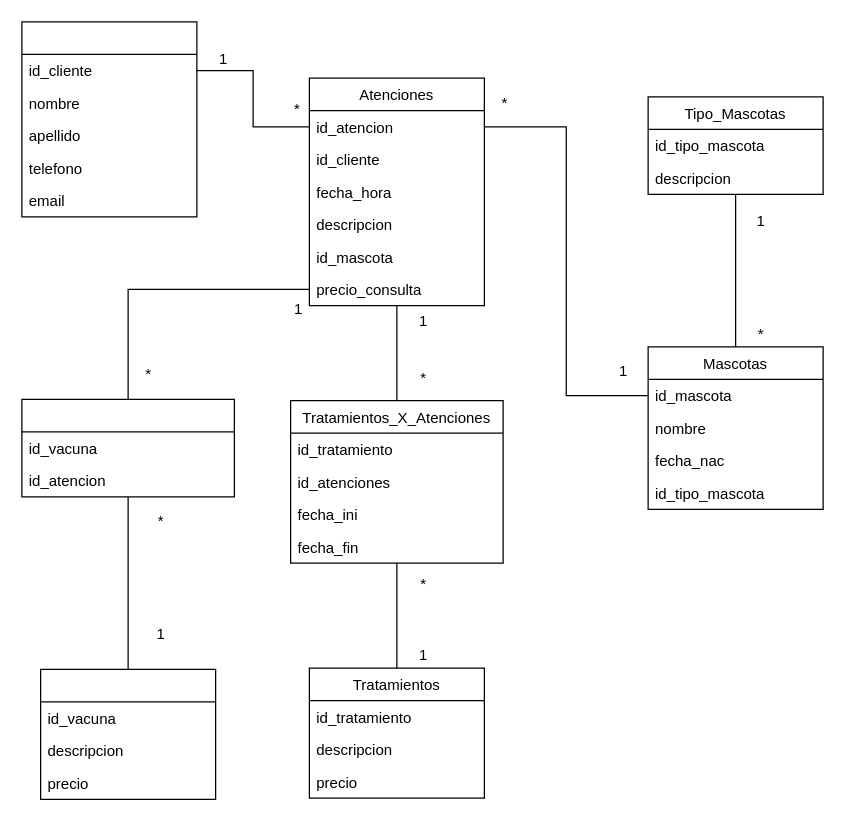
Some shapes in this 845 by 825 pixel diagram are drawn without their labels. Here are the shapes that lost their labels. From the top down, the box of each, then its label:
(21, 21, 197, 217): Clientes
(21, 398, 234, 497): Vacunas_X_Atenciones
(39, 668, 216, 799): Vacunas
